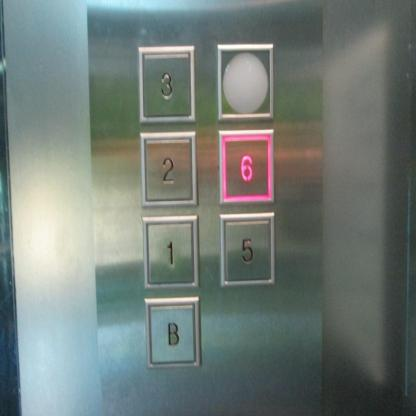1: (141, 214, 201, 289)
2: (138, 128, 199, 207)
3: (136, 44, 196, 123)
5: (218, 212, 277, 288)
6: (218, 128, 275, 207)
B: (144, 295, 202, 369)
empty: (217, 42, 273, 120)
